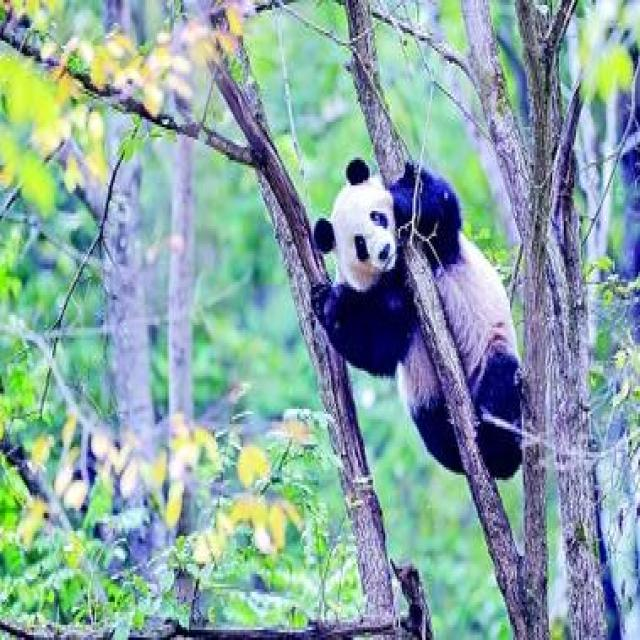panda: (305, 144, 550, 488)
